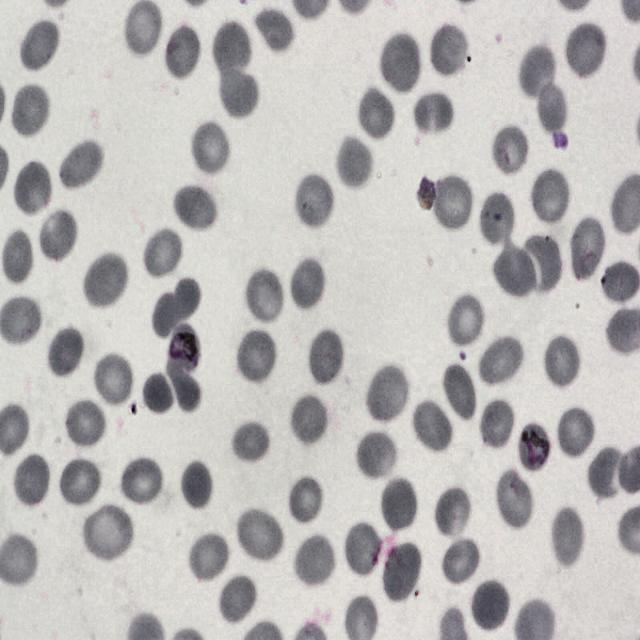red blood cell: (148, 281, 204, 340), (82, 501, 134, 563), (80, 250, 130, 312), (364, 362, 411, 426), (235, 504, 285, 564), (378, 30, 422, 96), (528, 164, 573, 227), (493, 464, 534, 533), (57, 137, 106, 194), (381, 540, 423, 606), (563, 20, 608, 81), (430, 483, 475, 542), (243, 266, 286, 327), (214, 68, 262, 122), (586, 446, 632, 502), (292, 533, 337, 590), (428, 175, 473, 232), (293, 171, 335, 232), (549, 504, 586, 573), (410, 398, 453, 456), (12, 160, 54, 219), (343, 520, 385, 579), (428, 21, 470, 80), (92, 352, 135, 409), (236, 328, 278, 386), (379, 475, 420, 534), (190, 119, 231, 178), (570, 215, 606, 282), (518, 42, 558, 102), (10, 83, 52, 140), (58, 456, 103, 509), (38, 206, 79, 264), (187, 530, 231, 584), (210, 18, 250, 77), (494, 244, 536, 300), (172, 184, 219, 234), (307, 328, 346, 388), (120, 455, 164, 508), (64, 396, 107, 450), (445, 294, 488, 348), (469, 578, 511, 633), (142, 225, 184, 280), (354, 428, 396, 483), (288, 393, 329, 449), (12, 452, 52, 509), (542, 333, 582, 390), (488, 124, 530, 178), (356, 86, 396, 142), (218, 572, 258, 628), (332, 132, 373, 186), (522, 234, 560, 292), (412, 90, 456, 140), (556, 405, 596, 459), (479, 336, 524, 384), (123, 2, 161, 58), (440, 534, 480, 587), (228, 418, 272, 466), (478, 190, 515, 247), (477, 397, 515, 452), (42, 326, 83, 376), (179, 459, 216, 514), (165, 24, 201, 80), (286, 474, 324, 527), (289, 258, 327, 309), (254, 9, 298, 53), (600, 260, 640, 308), (442, 364, 475, 422), (0, 226, 32, 282), (21, 22, 59, 68), (534, 82, 568, 132), (170, 366, 202, 415), (142, 373, 174, 413)
trophozoite: (165, 322, 201, 375), (518, 422, 554, 473)
